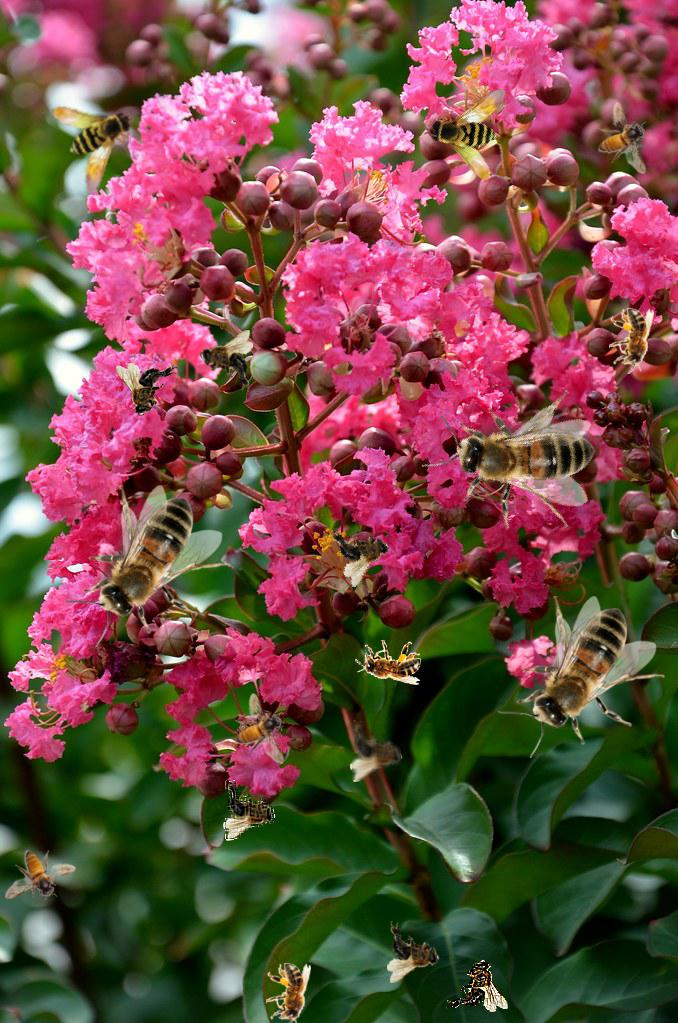Bee: (402, 344, 633, 576), (498, 596, 665, 758), (64, 485, 231, 647), (420, 67, 542, 189), (39, 98, 137, 200), (325, 511, 400, 589), (596, 101, 650, 174), (235, 693, 285, 764), (5, 850, 76, 900), (223, 779, 276, 841), (200, 330, 253, 392), (446, 959, 508, 1012), (116, 363, 178, 416), (350, 720, 403, 782), (387, 921, 440, 983), (609, 308, 654, 374), (355, 640, 421, 685), (266, 963, 311, 1023)
